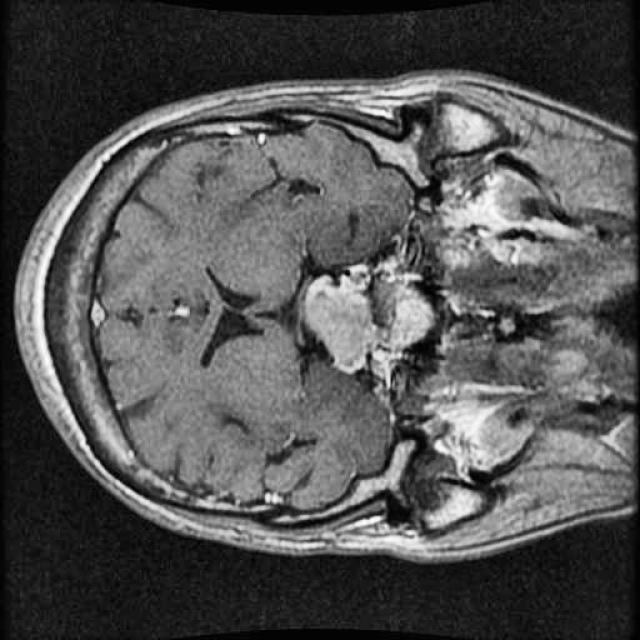Tumor: (290, 245, 448, 380)
